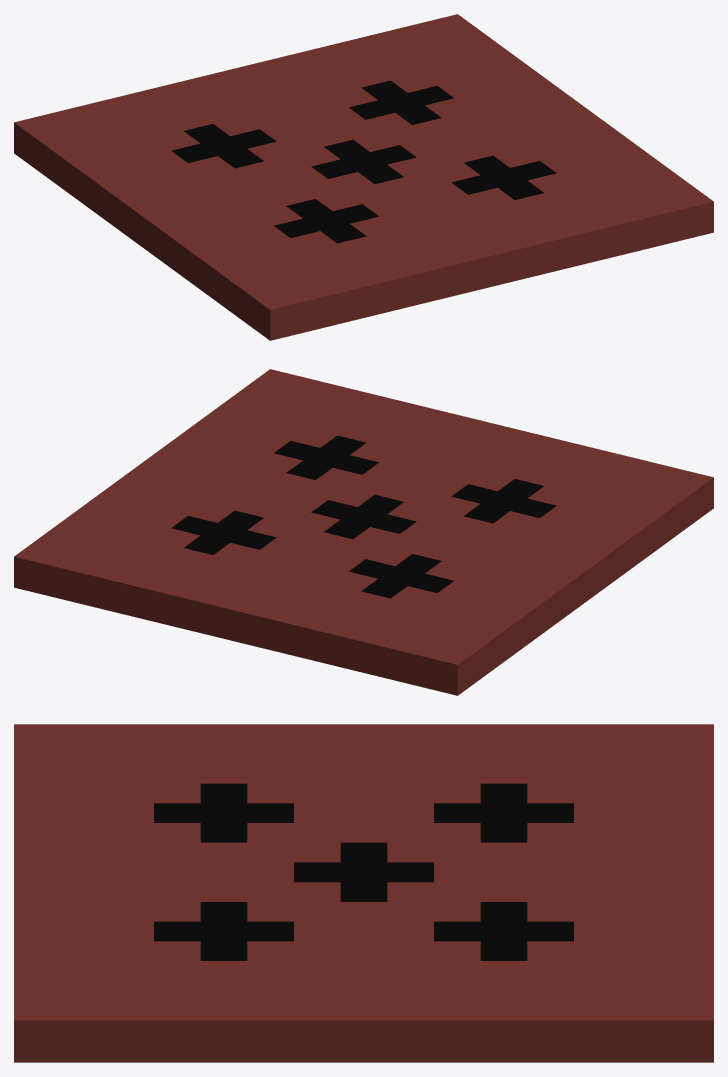
The model's file is dungeon_b_a_ground_a_b.obj.
3 renders of one model, top to bottom at view 1: azimuth 30°, elevation 25°; view 2: azimuth 150°, elevation 25°; view 3: azimuth 270°, elevation 25°, orthographic. The views are drawn at different scales.
Size of the model in its own units: 1.5 by 0.1 by 1.5.
Materials: 1 (1 with a texture image).
